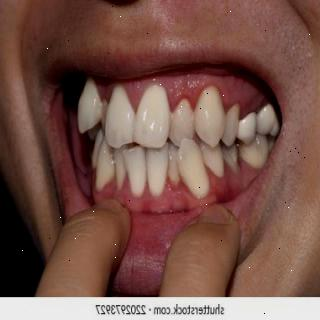Gum Swelling: (169, 75, 249, 113), (118, 74, 178, 108)
calculus: (159, 98, 179, 128), (186, 105, 197, 131)
maligned: (175, 136, 212, 200), (101, 86, 133, 148), (166, 92, 196, 147), (72, 82, 105, 132), (124, 147, 150, 202), (92, 138, 116, 193), (162, 139, 183, 183), (91, 95, 111, 139), (113, 142, 131, 190)
